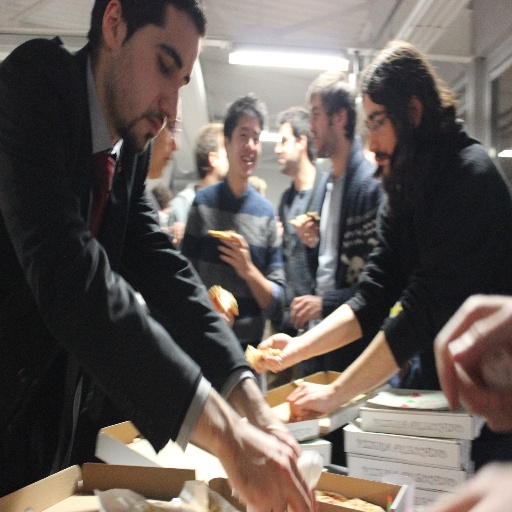hand: (448, 272, 510, 436), (222, 415, 316, 511), (429, 459, 511, 511), (250, 415, 302, 458), (285, 379, 332, 424), (216, 228, 256, 280), (251, 332, 300, 374), (288, 295, 321, 331), (288, 210, 319, 247), (213, 299, 235, 327), (168, 221, 186, 246)
